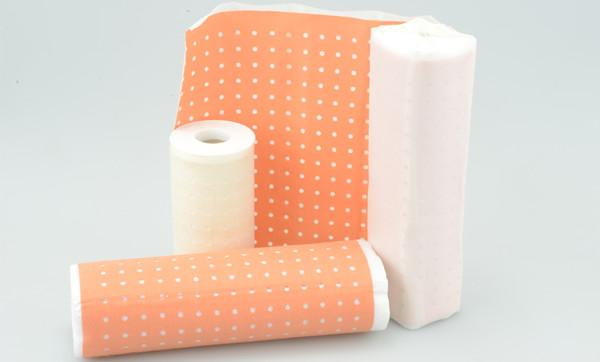bandage: (179, 4, 475, 331), (69, 237, 389, 362), (171, 122, 263, 254)
